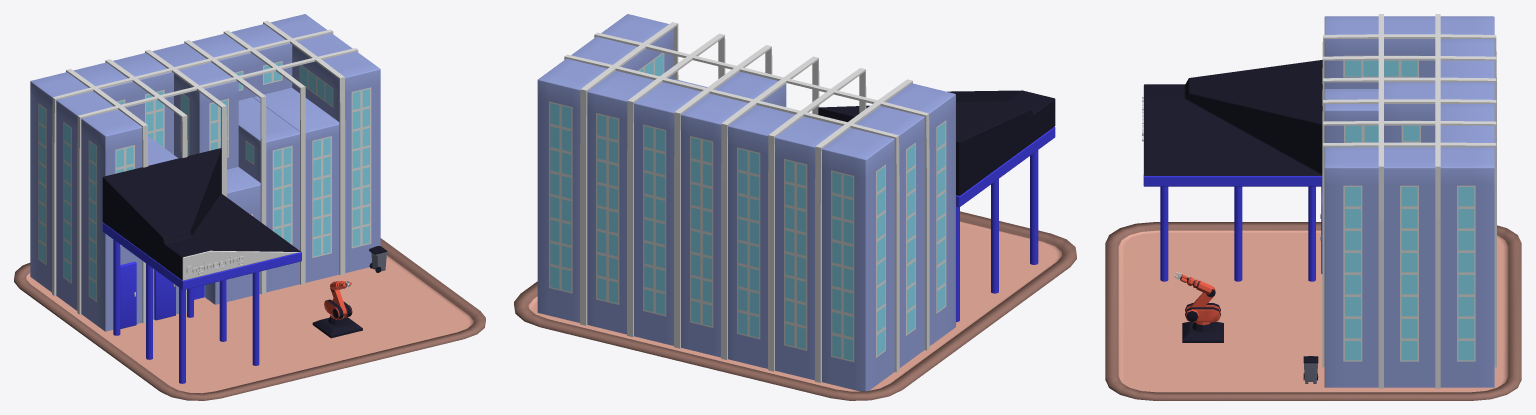
The model's file is engenharia_level_03.fbx.
The picture shows the model from 3 angles, left to right: view 1: azimuth 30°, elevation 25°; view 2: azimuth 150°, elevation 25°; view 3: azimuth 270°, elevation 25°; orthographic projection. The views are drawn at different scales.
Visible parts, largest first — view 1: Cube.001, Plane.006, Cube.004, Braco_robo.002; view 2: Cube.001, Cube.004, Plane.006; view 3: Cube.001, Plane.006, Cube.004, Braco_robo.002, lixeira.002.
Boxes of the visible parts, <box> form: Cube.001: <box>30,14,380,383</box>; Plane.006: <box>14,238,485,400</box>; Cube.004: <box>52,20,358,323</box>; Braco_robo.002: <box>312,280,362,338</box>; Cube.001: <box>537,14,1055,391</box>; Cube.004: <box>564,22,929,382</box>; Plane.006: <box>514,211,1076,400</box>; Cube.001: <box>1143,16,1494,387</box>; Plane.006: <box>1105,222,1521,400</box>; Cube.004: <box>1322,14,1496,388</box>; Braco_robo.002: <box>1174,272,1223,342</box>; lixeira.002: <box>1303,356,1318,383</box>.
Size of the model in its own units: 2000 by 1183 by 2000.
